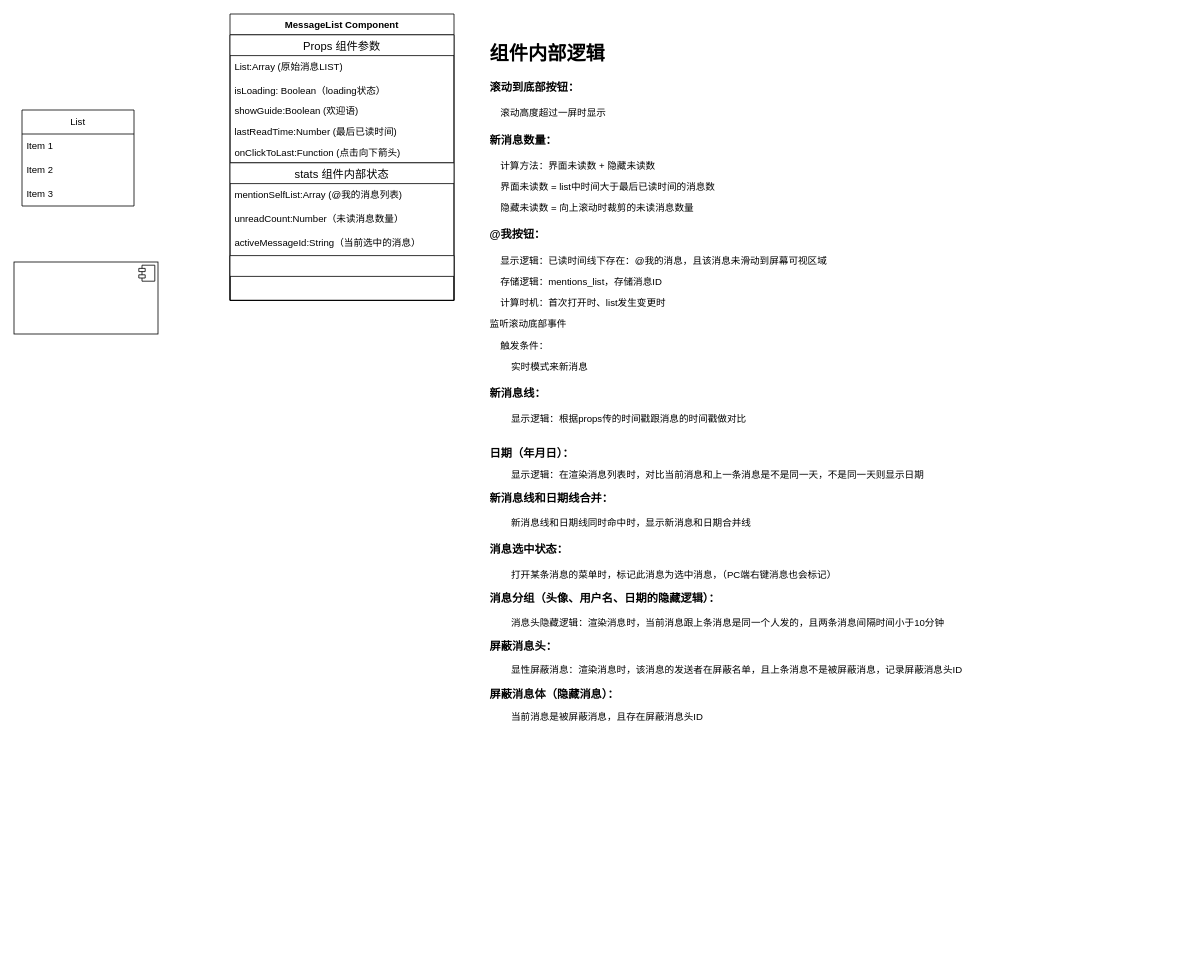
Image size: 1204x972. Some labels were removed from this diagram. Here are the shapes that lost their labels. From the top down, the centre of each, then its label:
At point (85, 297): "Component + Attribute1: Type + Attribute2: Type".
At point (341, 277): "handlers 组件内部方法".
